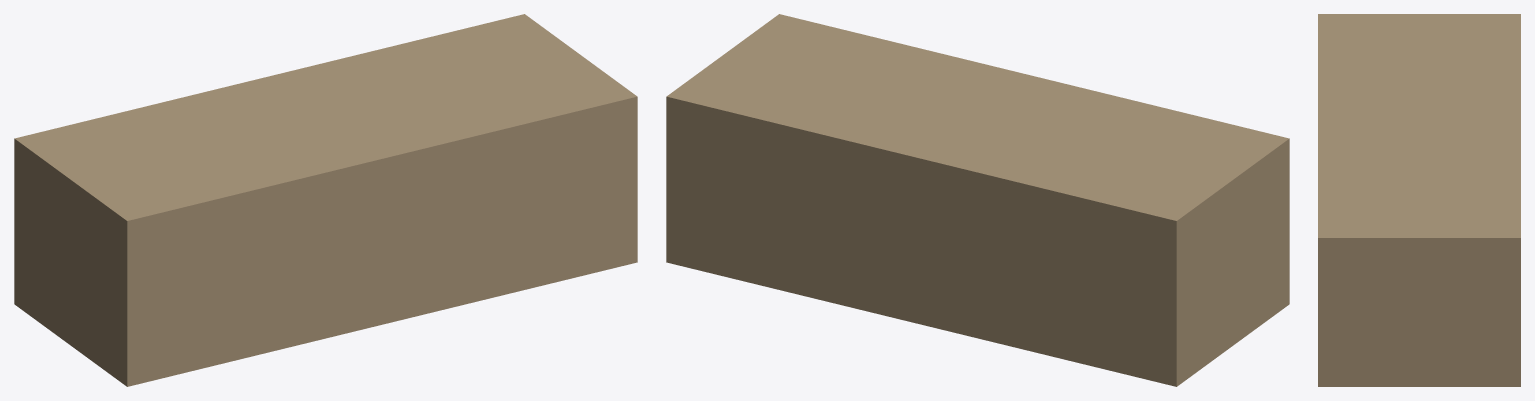
File: ikea-bondholmen-80508604-g2-proxy.glb
3 renders of one model, left to right at view 1: azimuth 30°, elevation 25°; view 2: azimuth 150°, elevation 25°; view 3: azimuth 270°, elevation 25°, orthographic. The views are drawn at different scales.
Parts seen in each view (by area): view 1: proxy_body; view 2: proxy_body; view 3: proxy_body.
Boxes of the visible parts, x1=… form: proxy_body: x1=14, y1=14, x2=637, y2=386; proxy_body: x1=666, y1=14, x2=1289, y2=386; proxy_body: x1=1318, y1=14, x2=1520, y2=386.
Size of the model in its own units: 2.35 by 0.73 by 0.9.
